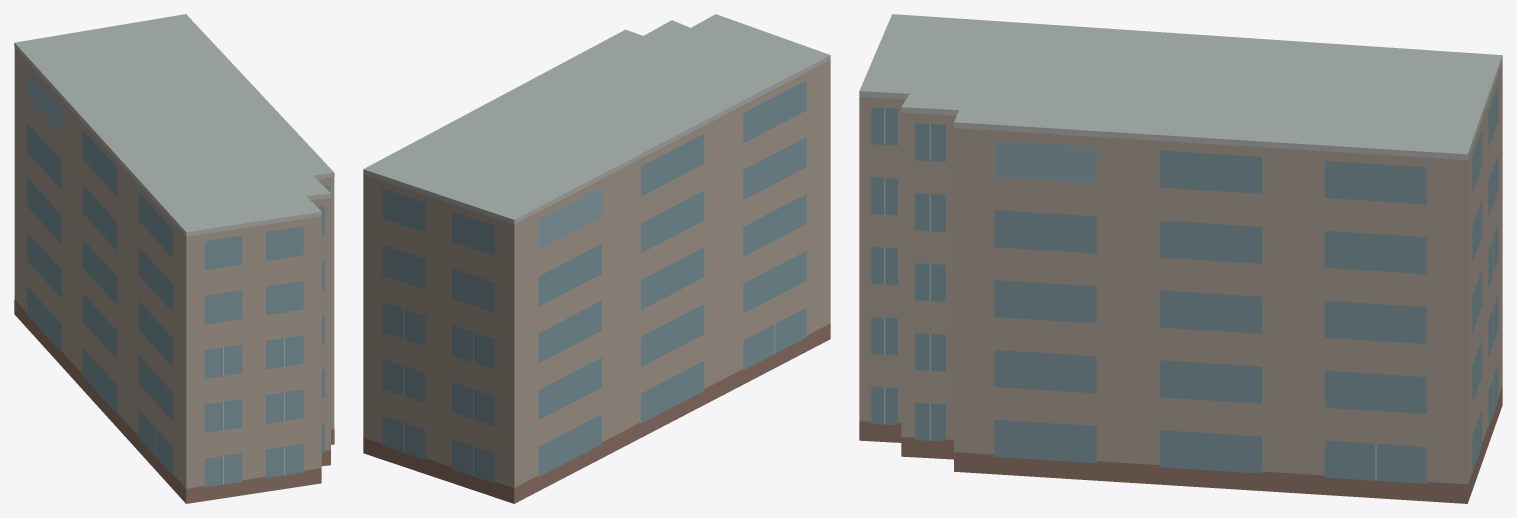
File: survey-upis-32981922.glb
The picture shows the model from 3 angles, left to right: view 1: azimuth 30°, elevation 25°; view 2: azimuth 150°, elevation 25°; view 3: azimuth 270°, elevation 25°; orthographic projection. The views are drawn at different scales.
Parts seen in each view (by area): view 1: survey-upis-32981922.tmp; view 2: survey-upis-32981922.tmp; view 3: survey-upis-32981922.tmp.
Boxes of the visible parts, x1,y1,x2,y2 form: survey-upis-32981922.tmp: (14,14,334,503); survey-upis-32981922.tmp: (363,14,830,503); survey-upis-32981922.tmp: (859,14,1502,503).
Bounding box in the file's own units: 12.75 × 14.8 × 24.7.
